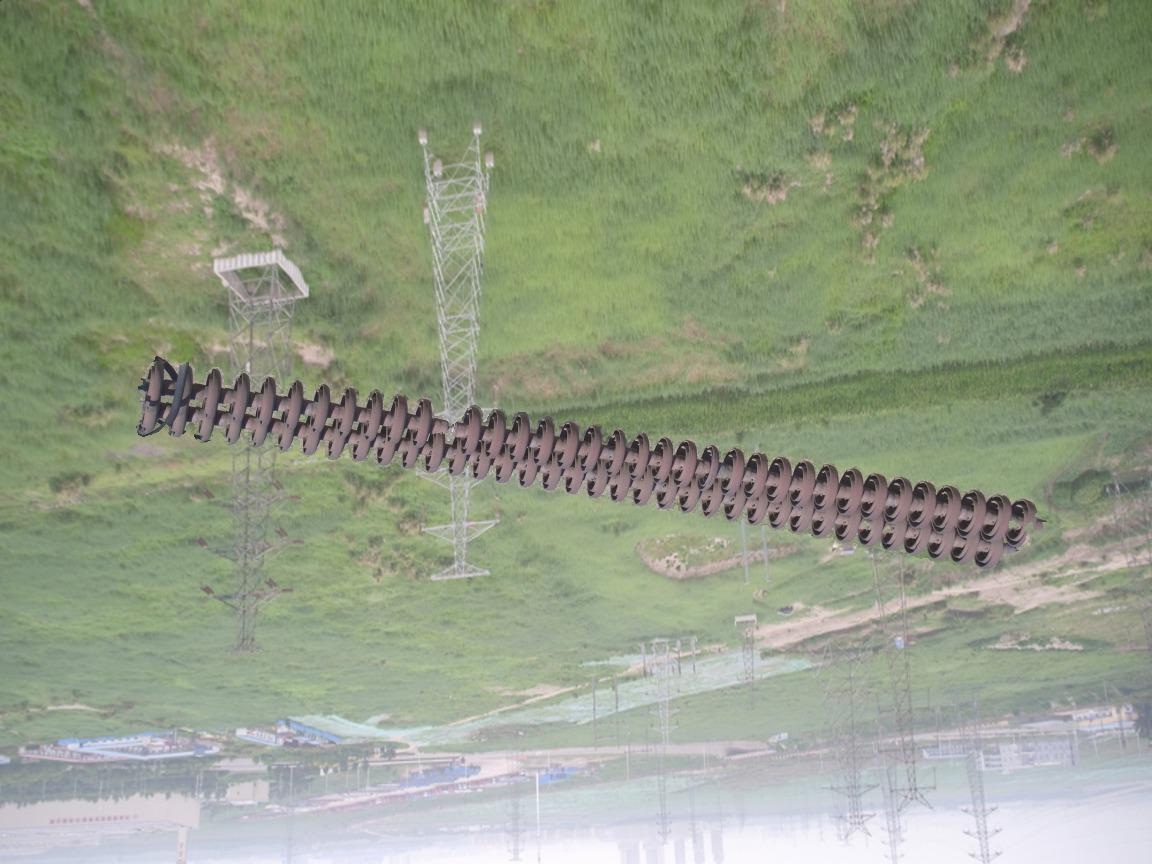insulator: (133, 355, 1044, 576)
insulator_stringdrop: (408, 396, 484, 458)
